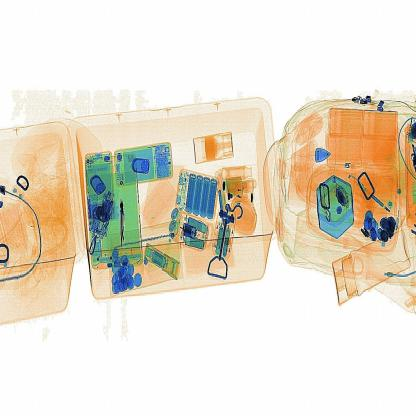knife: (110, 194, 134, 257)
